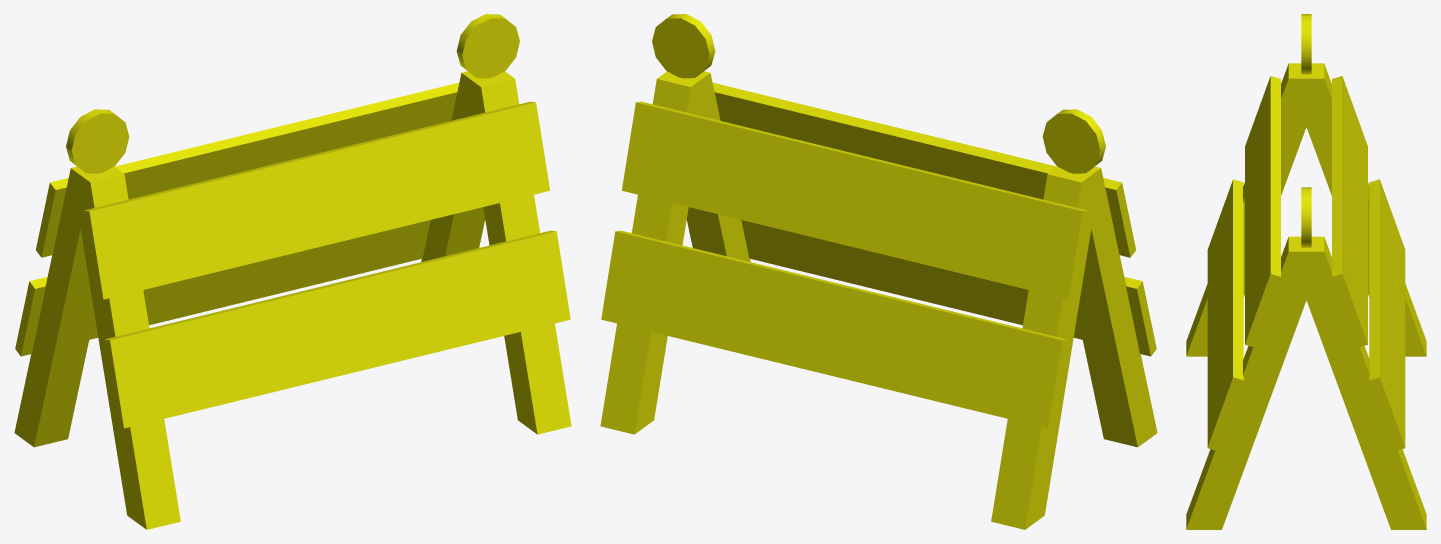
Rendered from BlockModel.fbx.
3 renders of one model, left to right at view 1: azimuth 30°, elevation 25°; view 2: azimuth 150°, elevation 25°; view 3: azimuth 270°, elevation 25°, orthographic. The views are drawn at different scales.
Parts seen in each view (by area): view 1: block; view 2: block; view 3: block.
Boxes of the visible parts, x1,y1,x2,y2 form: block: [14, 14, 571, 529]; block: [600, 14, 1157, 529]; block: [1186, 14, 1426, 529].
Size of the model in its own units: 91.82 by 71.61 by 46.97.
